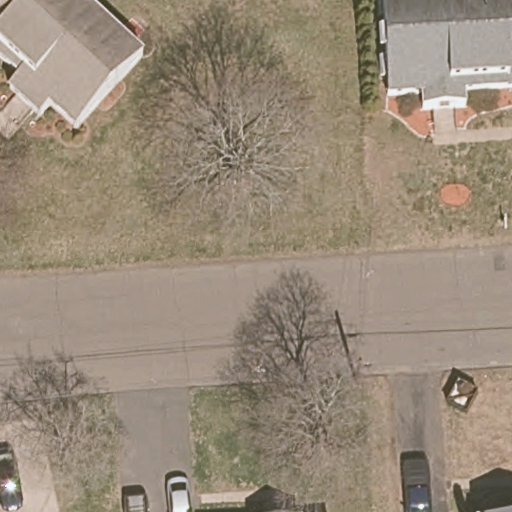DT: (349, 353, 372, 384)
